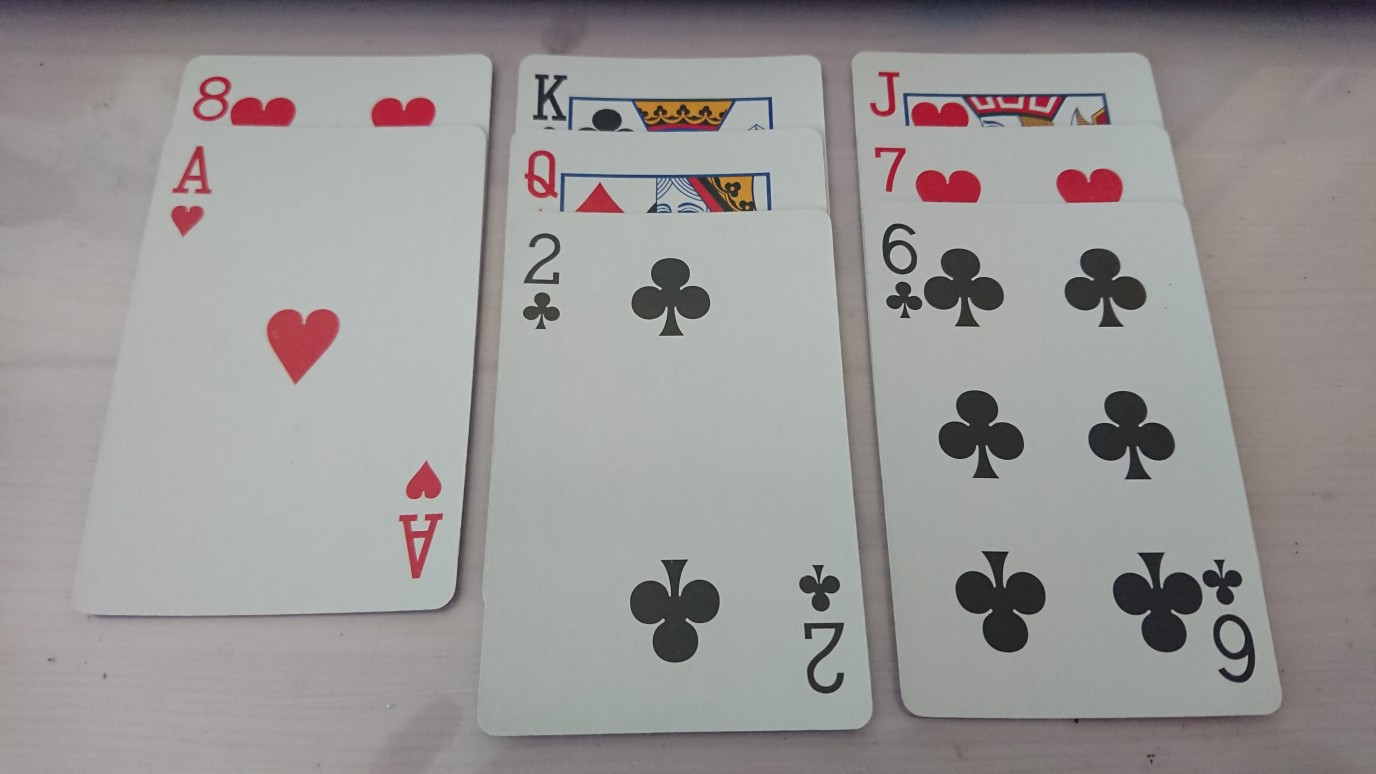2C: (518, 229, 565, 335)
6C: (875, 221, 925, 323)
AH: (165, 140, 215, 241)
